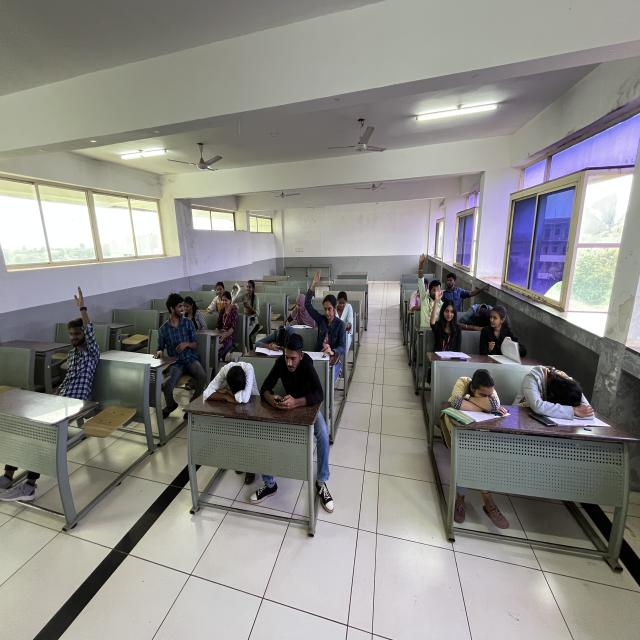Hand Rising: (53, 287, 114, 398), (292, 266, 357, 355), (428, 279, 480, 370), (410, 246, 459, 326)
Sleeping: (513, 355, 602, 462), (438, 358, 508, 442), (195, 350, 261, 410), (248, 318, 312, 358), (457, 293, 504, 333)
Using Phone: (262, 344, 334, 410), (237, 282, 262, 315)
